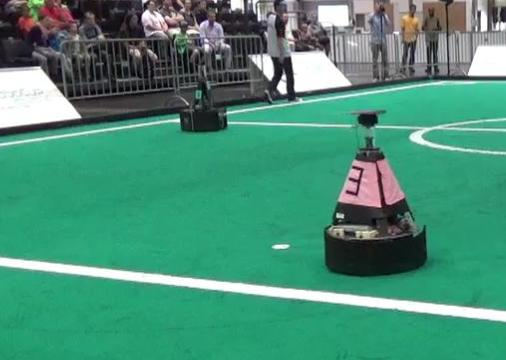robot: (324, 109, 429, 276), (176, 58, 229, 133)
